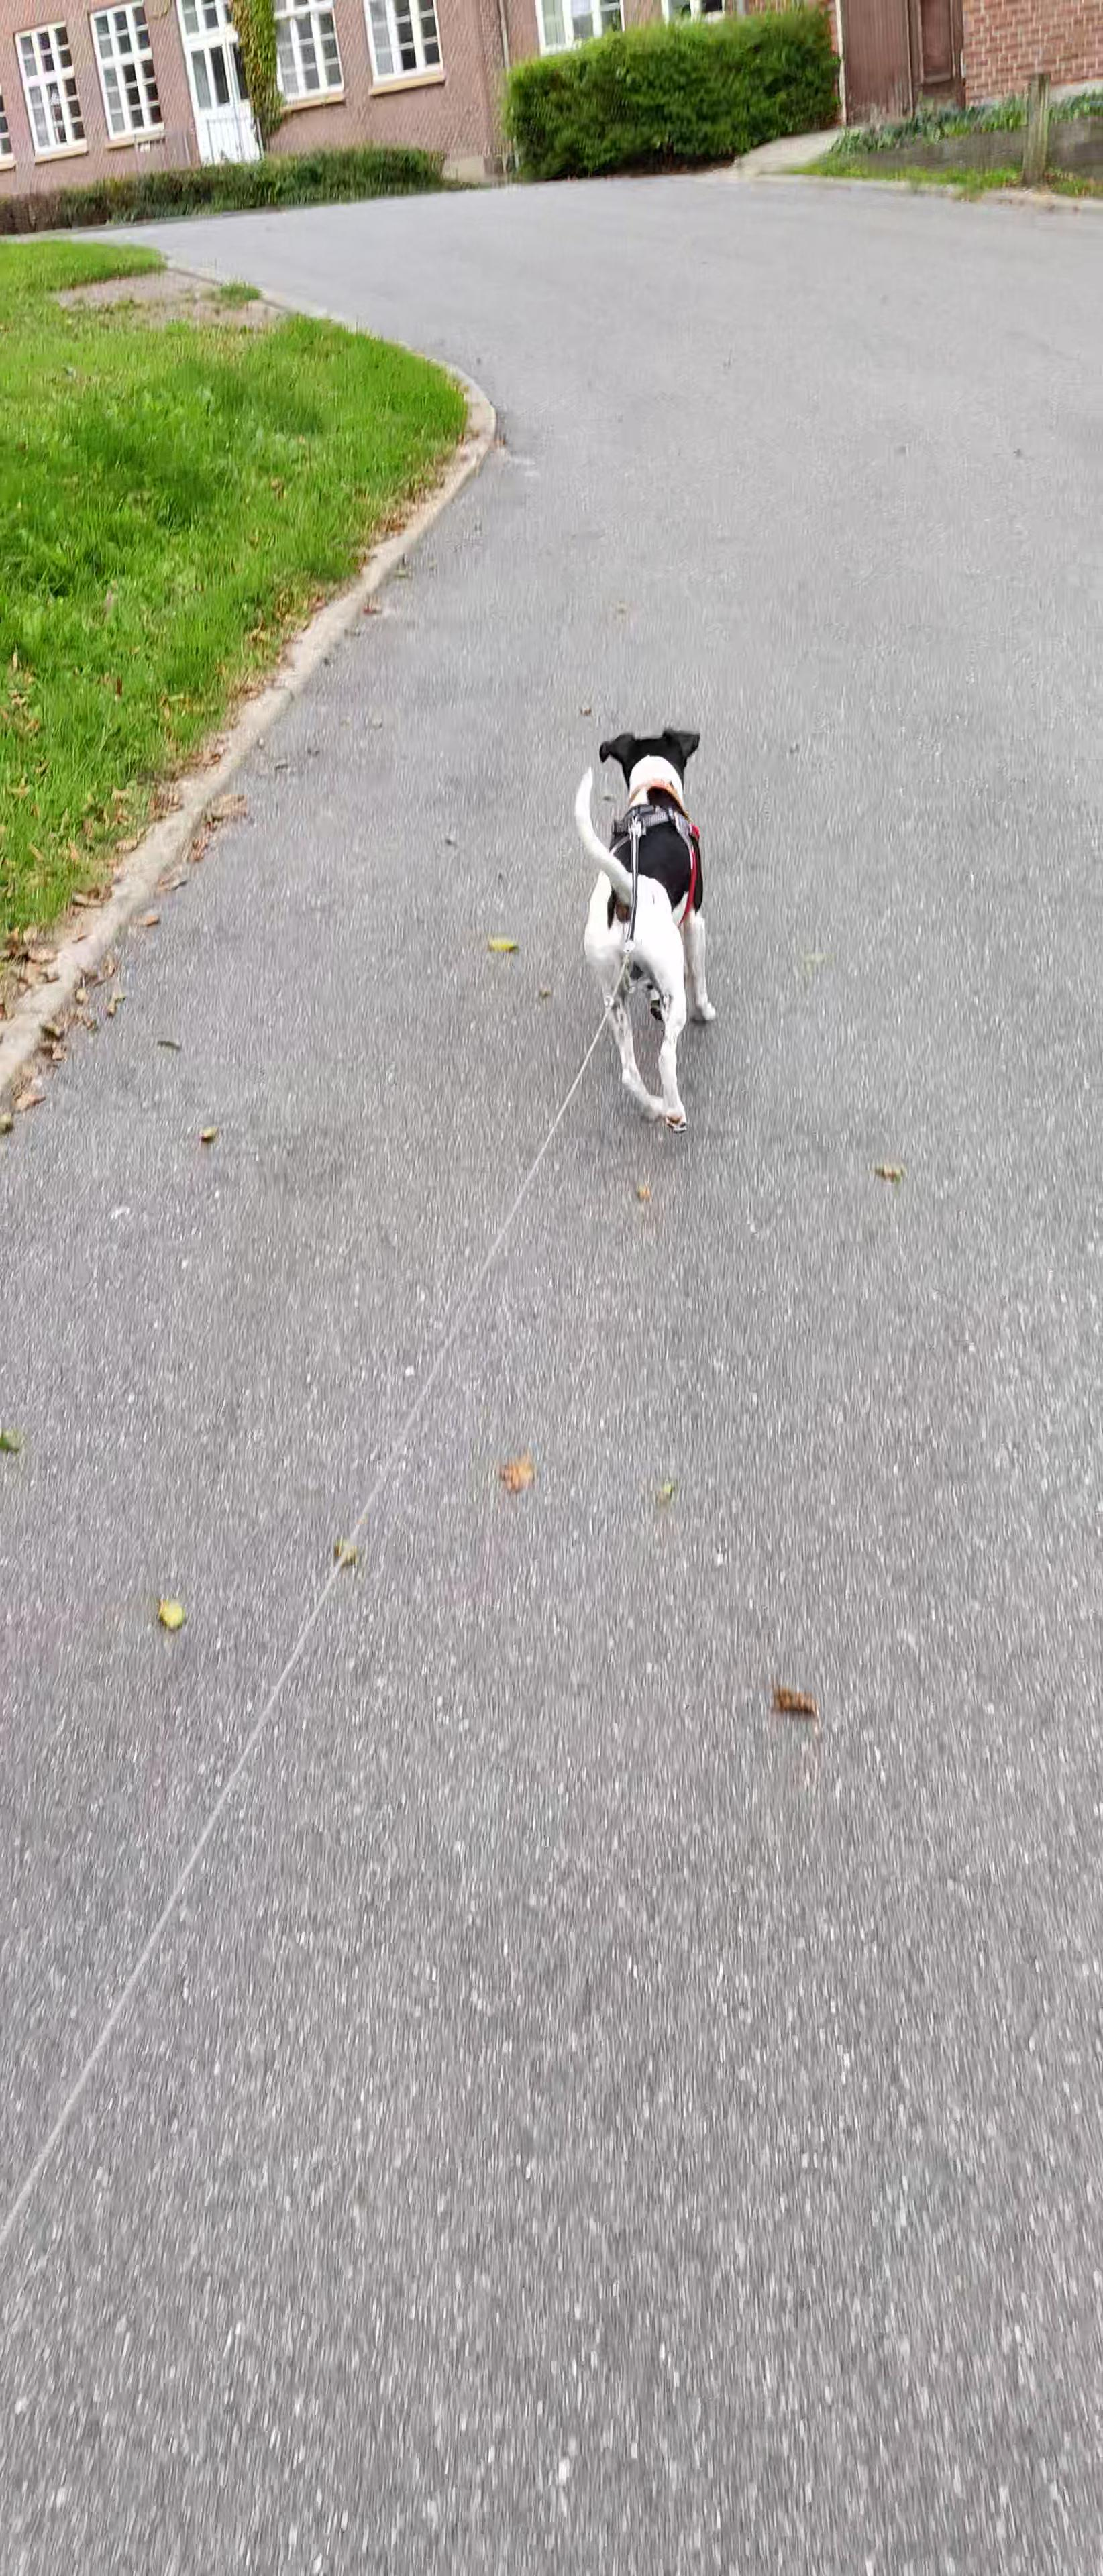Dog: (562, 720, 735, 1135)
